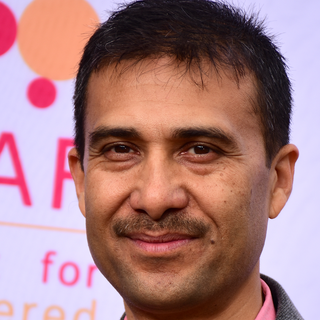eye: (171, 136, 230, 168), (95, 138, 147, 166)
